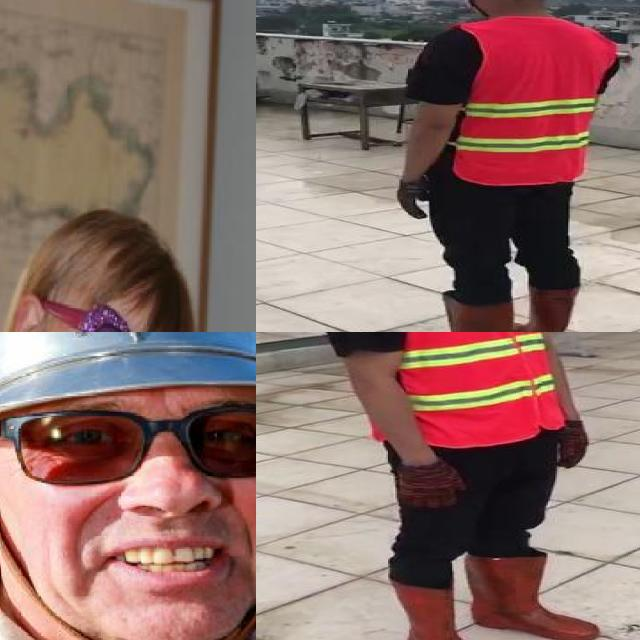No_Ear-Protection: (9, 286, 49, 332)
boots: (461, 553, 599, 640), (390, 576, 516, 640), (403, 294, 513, 332), (516, 288, 582, 332)
face_nomask: (0, 394, 256, 627)
glasses: (0, 381, 256, 490), (26, 300, 173, 332)
hand_glove: (402, 463, 466, 509), (397, 178, 435, 221), (564, 420, 589, 468)
head_helmet: (0, 332, 256, 445)
head_nohelmet: (71, 205, 207, 329)
person: (304, 332, 615, 640), (385, 0, 632, 332)
vest: (315, 332, 562, 449), (451, 18, 616, 186)
